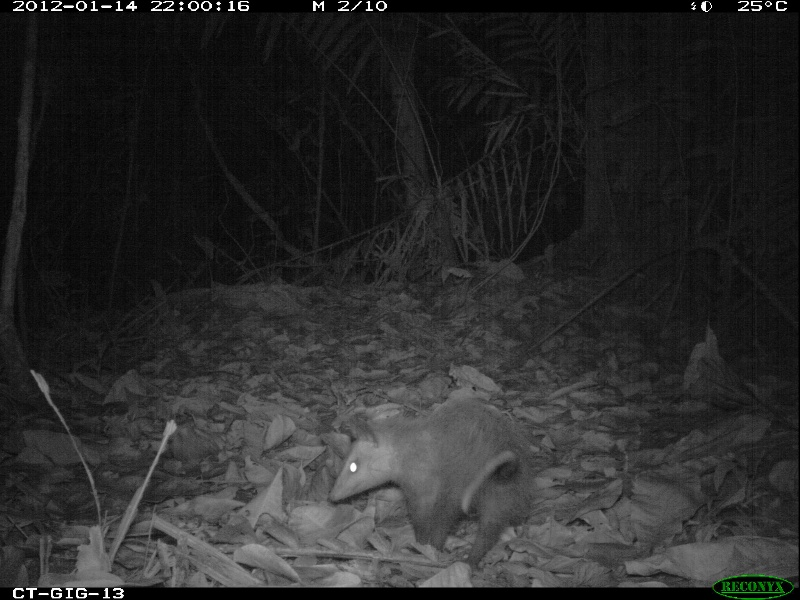opossum: (325, 402, 537, 557)
